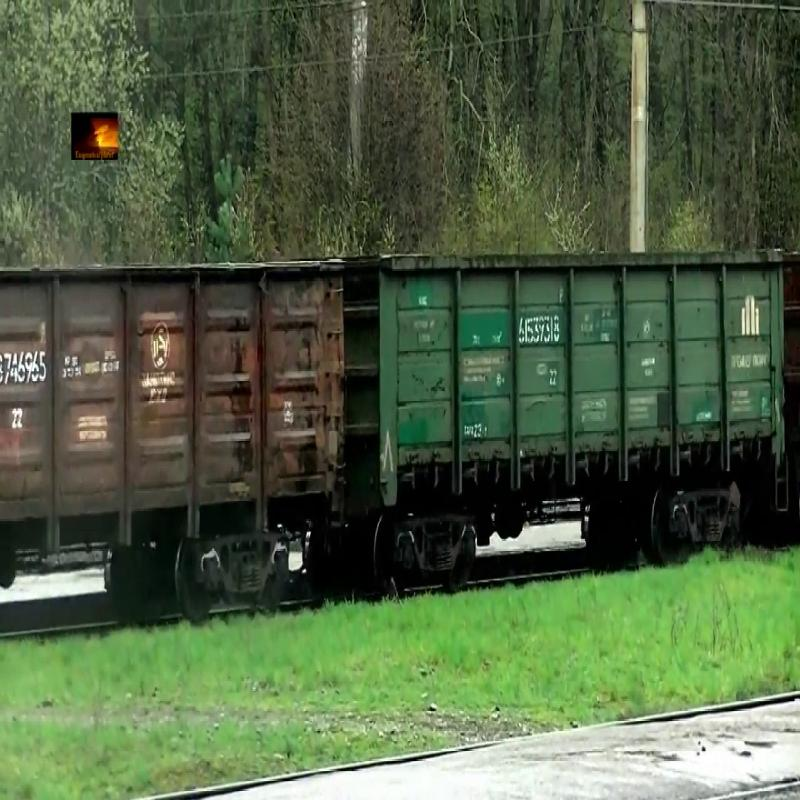train: (347, 249, 785, 507), (2, 257, 345, 556)
